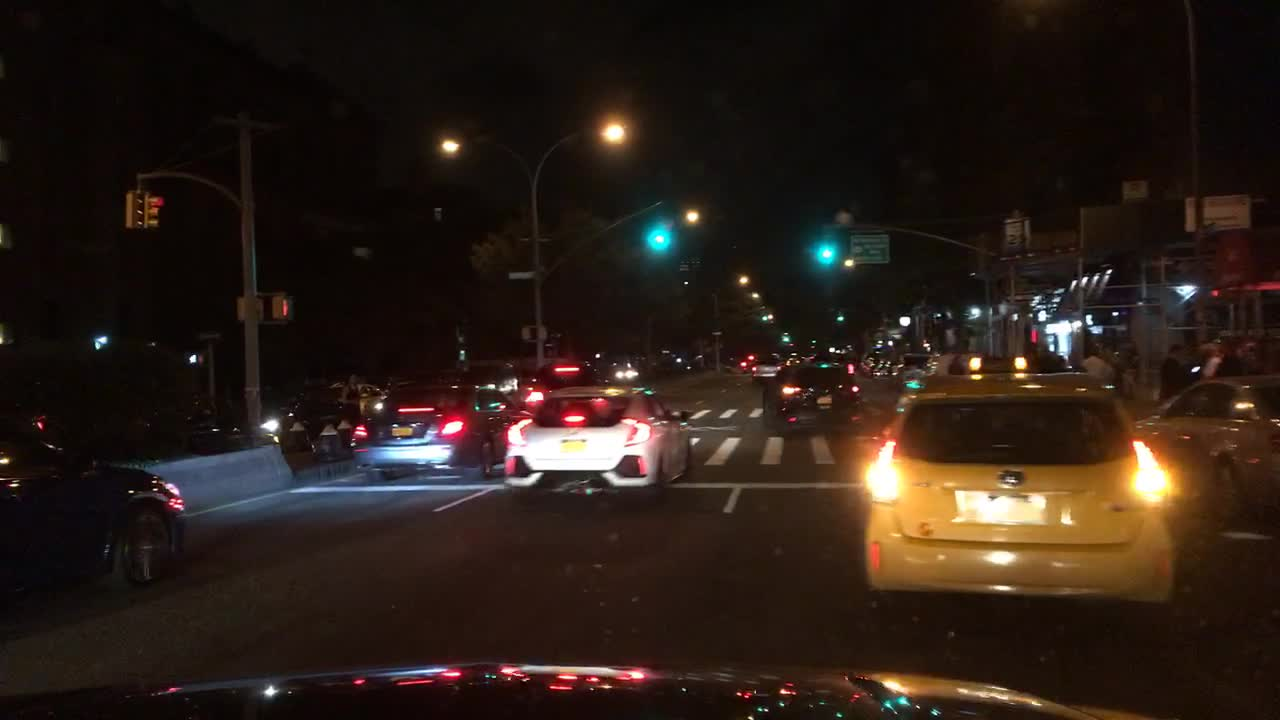car: (856, 355, 1183, 622), (2, 415, 193, 606), (500, 381, 696, 509), (1127, 372, 1278, 524), (348, 378, 545, 480), (283, 382, 390, 446), (768, 360, 856, 432), (191, 414, 286, 458), (890, 349, 931, 384), (752, 351, 786, 381), (869, 351, 893, 382), (737, 352, 760, 373), (856, 343, 874, 368)
traffic light: (640, 217, 676, 264), (813, 238, 845, 274), (235, 294, 267, 320), (139, 194, 160, 223), (268, 295, 292, 319), (122, 196, 136, 227), (519, 323, 537, 340), (833, 308, 847, 325), (760, 309, 770, 325)
traffic sign: (845, 234, 889, 266), (1004, 219, 1030, 256), (1122, 180, 1149, 199), (520, 233, 555, 244), (196, 331, 228, 342), (509, 268, 530, 280)
